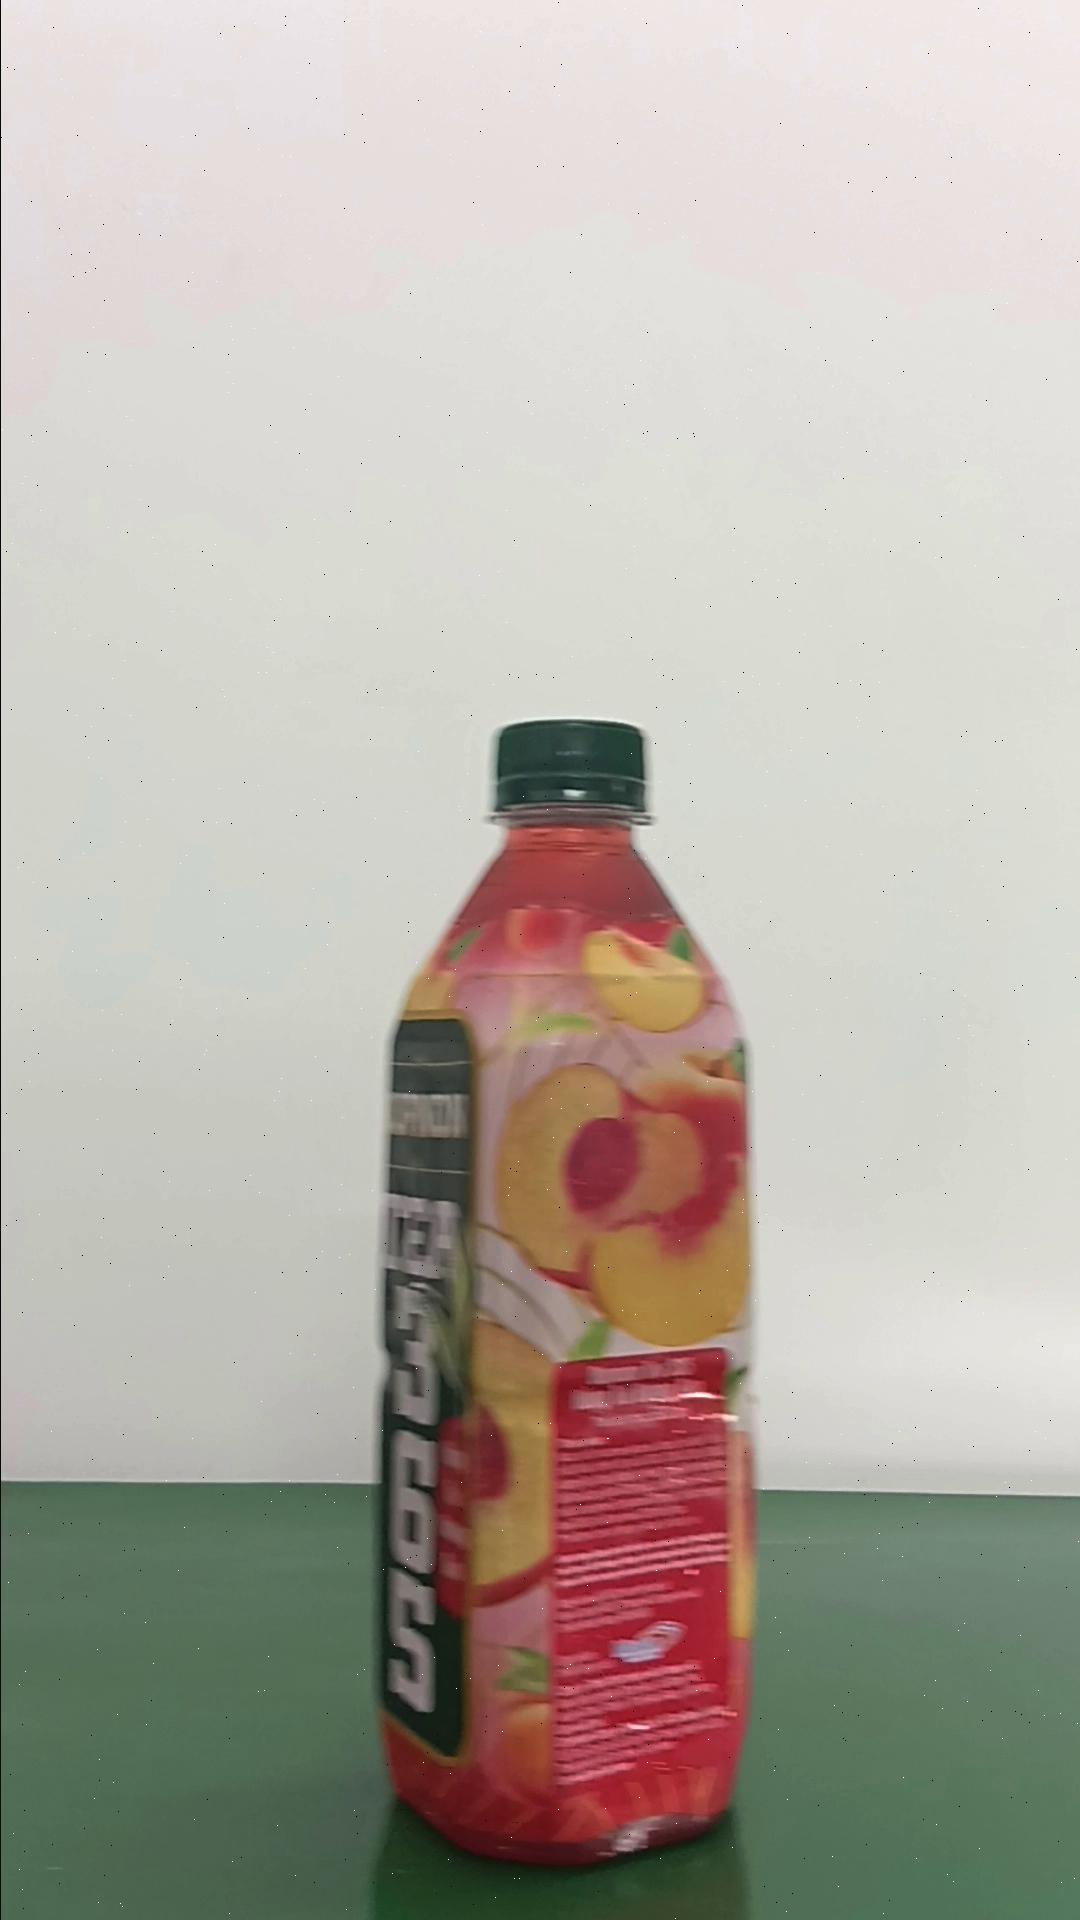khong loi: (372, 713, 761, 1867)
